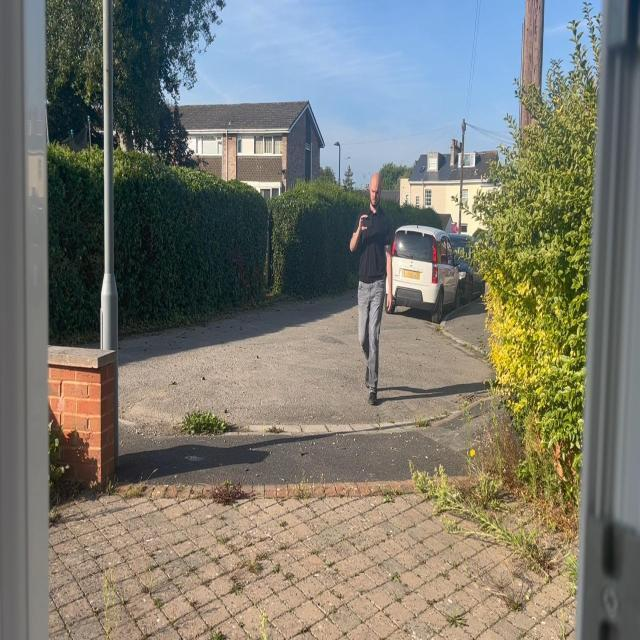lens: (372, 223, 373, 227)
phone: (363, 217, 374, 227)
